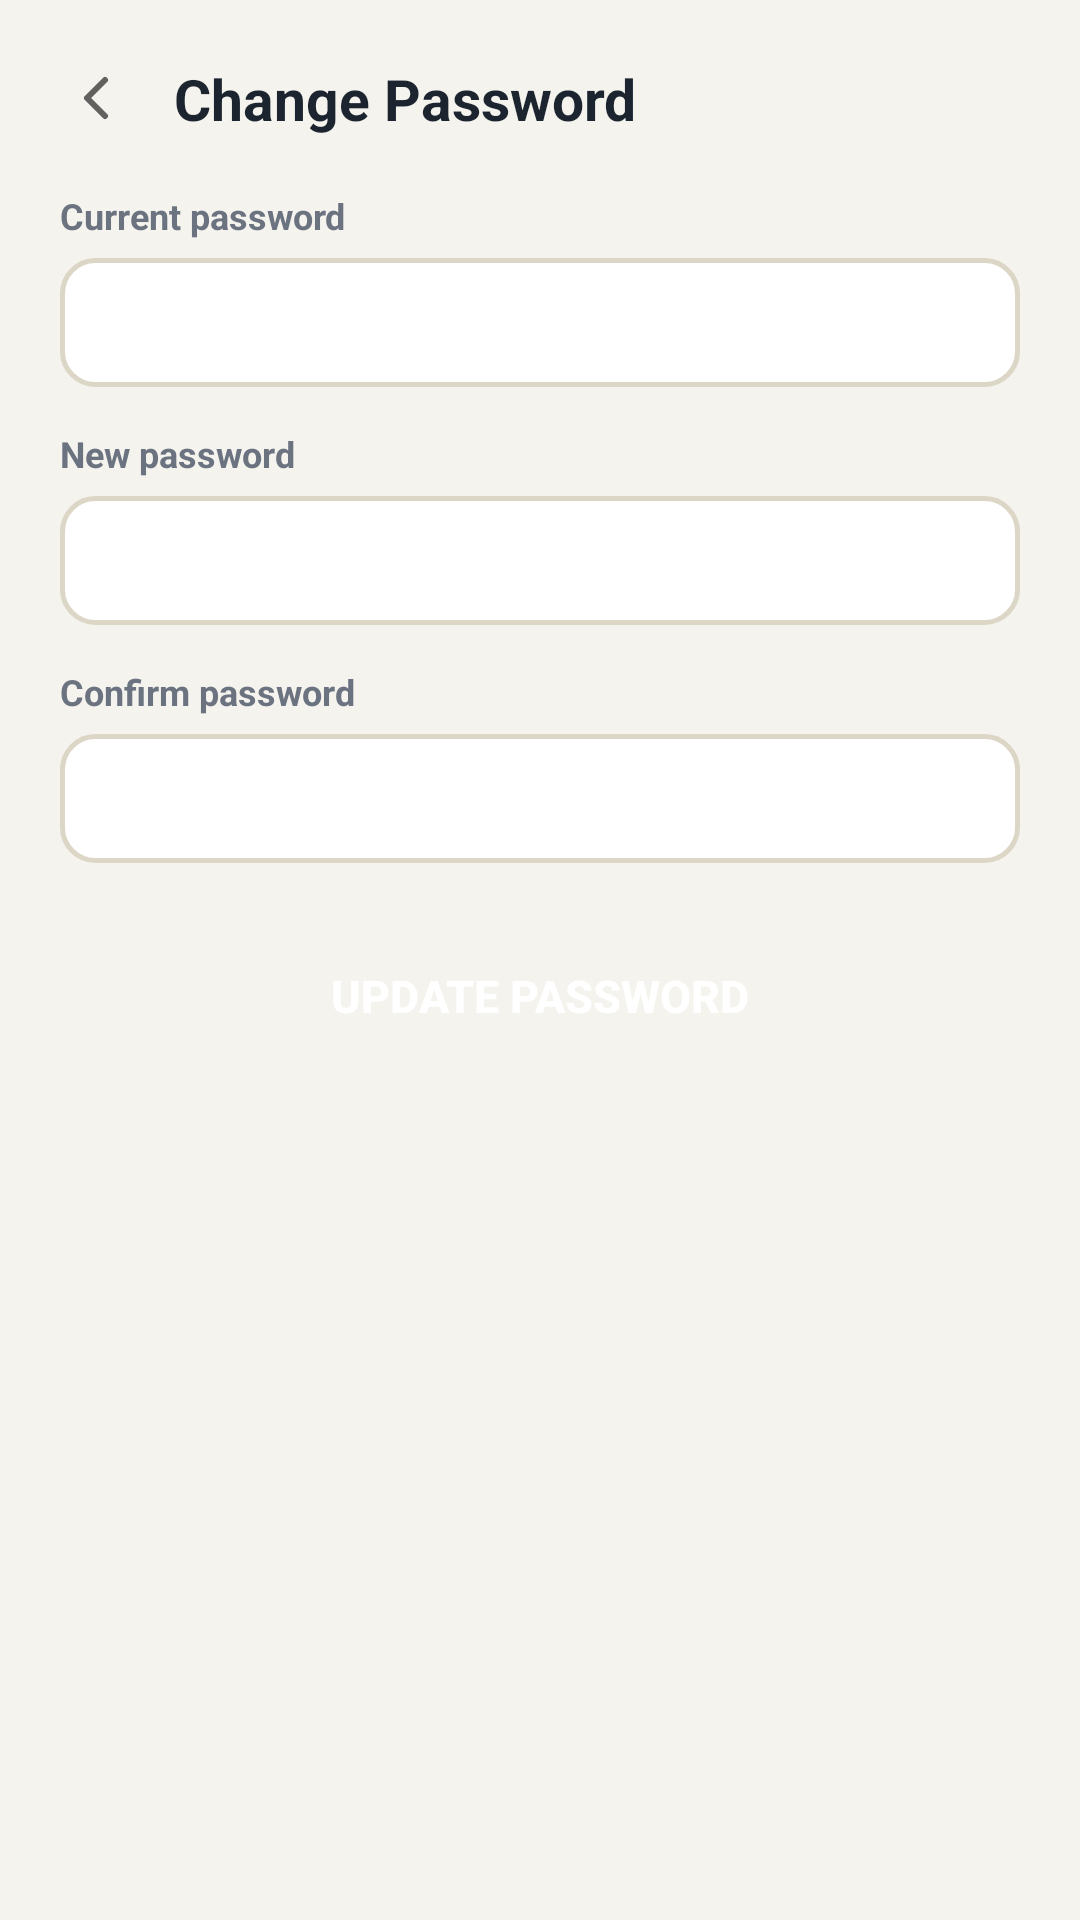

Icon bounding boxes for this 1080×1920 phone screenshot, format (x1, y1, x2, y2):
back: (84, 77, 108, 119)
